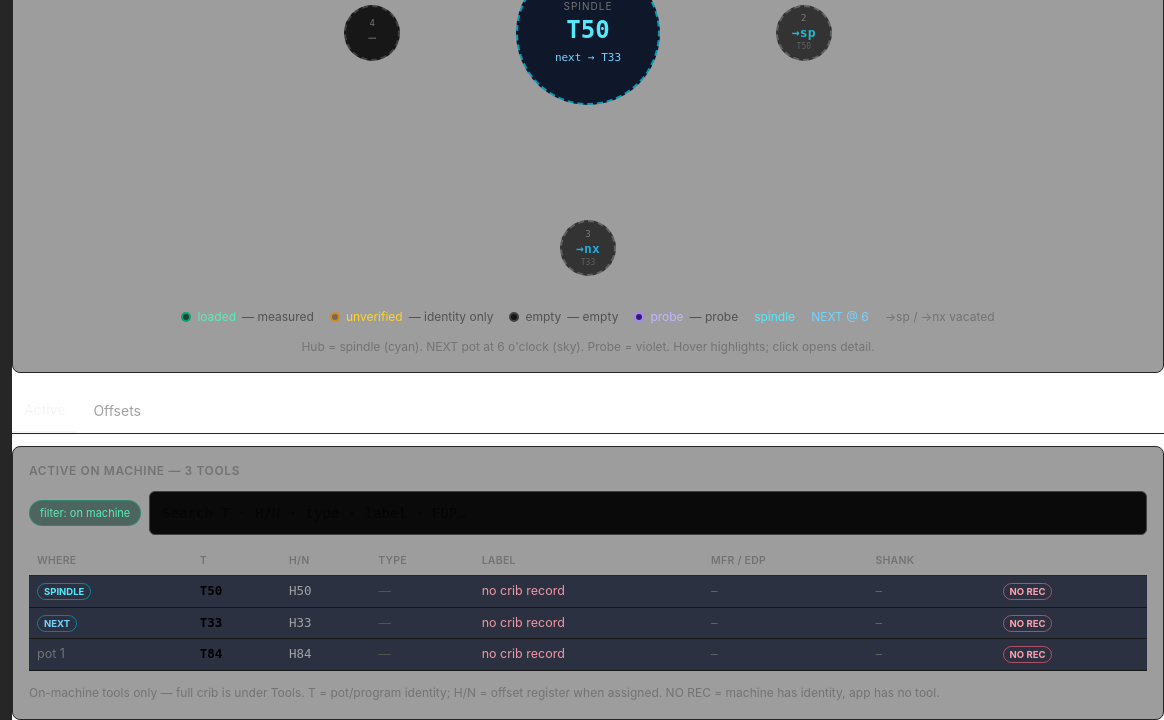
Test: PotMap spindle/NEXT overlay › switches right pane to on-machine offsets
(page scrolled)
Click the tab "Offsets".
click(117, 411)  # box [81,389,153,433]
(page scrolled)
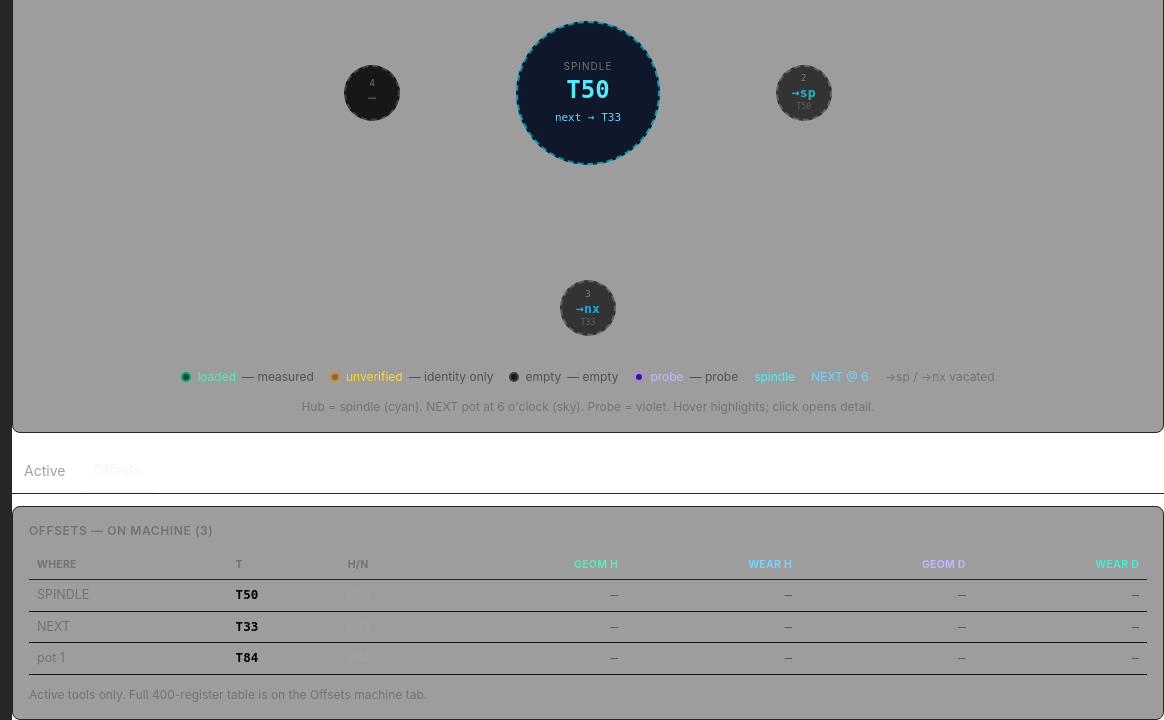
expect the heading "Offsets — on machine (3)" is shown: met, box [29,523,213,538]
